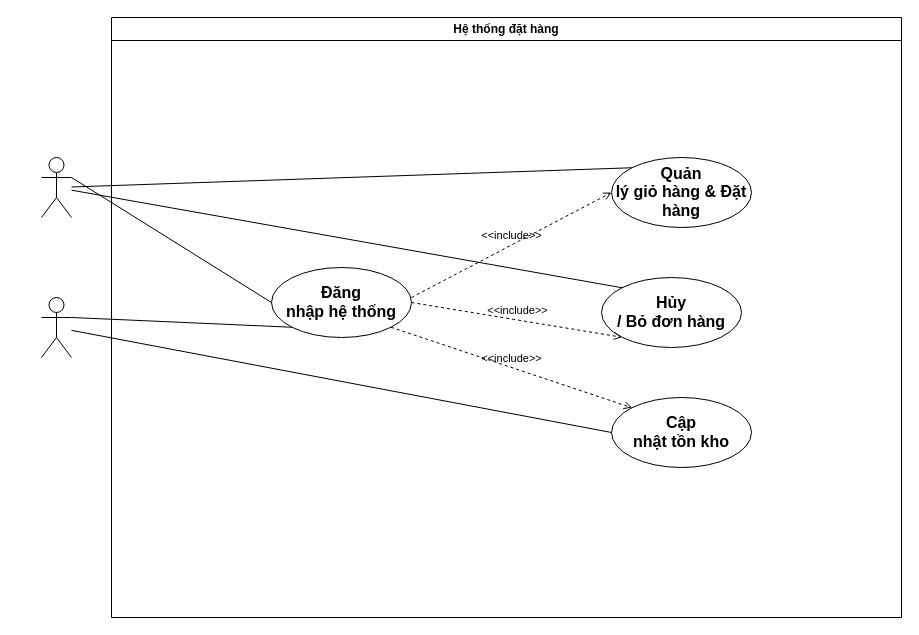
This 919x635 diagram has some shape labels left out. The shapes that lost their labels are listed below. From the top down, each one's centre as x and y in pixels, then its label:
At (56,187): "Khách hàng".
At (56,327): "Nhân Viên kho".
